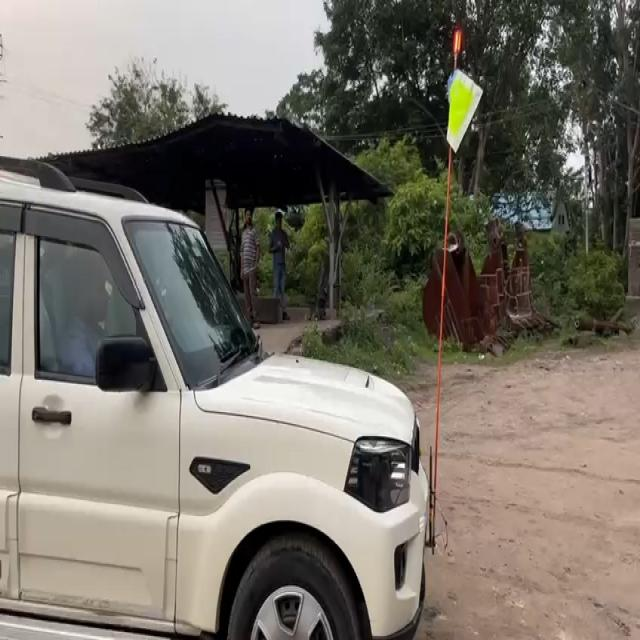light_vehicle: (1, 159, 429, 640)
